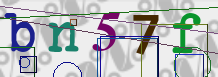5: (91, 11, 121, 52)
7: (131, 13, 159, 54)
b: (3, 11, 36, 54)
f: (171, 13, 201, 54)
n: (47, 20, 80, 54)
